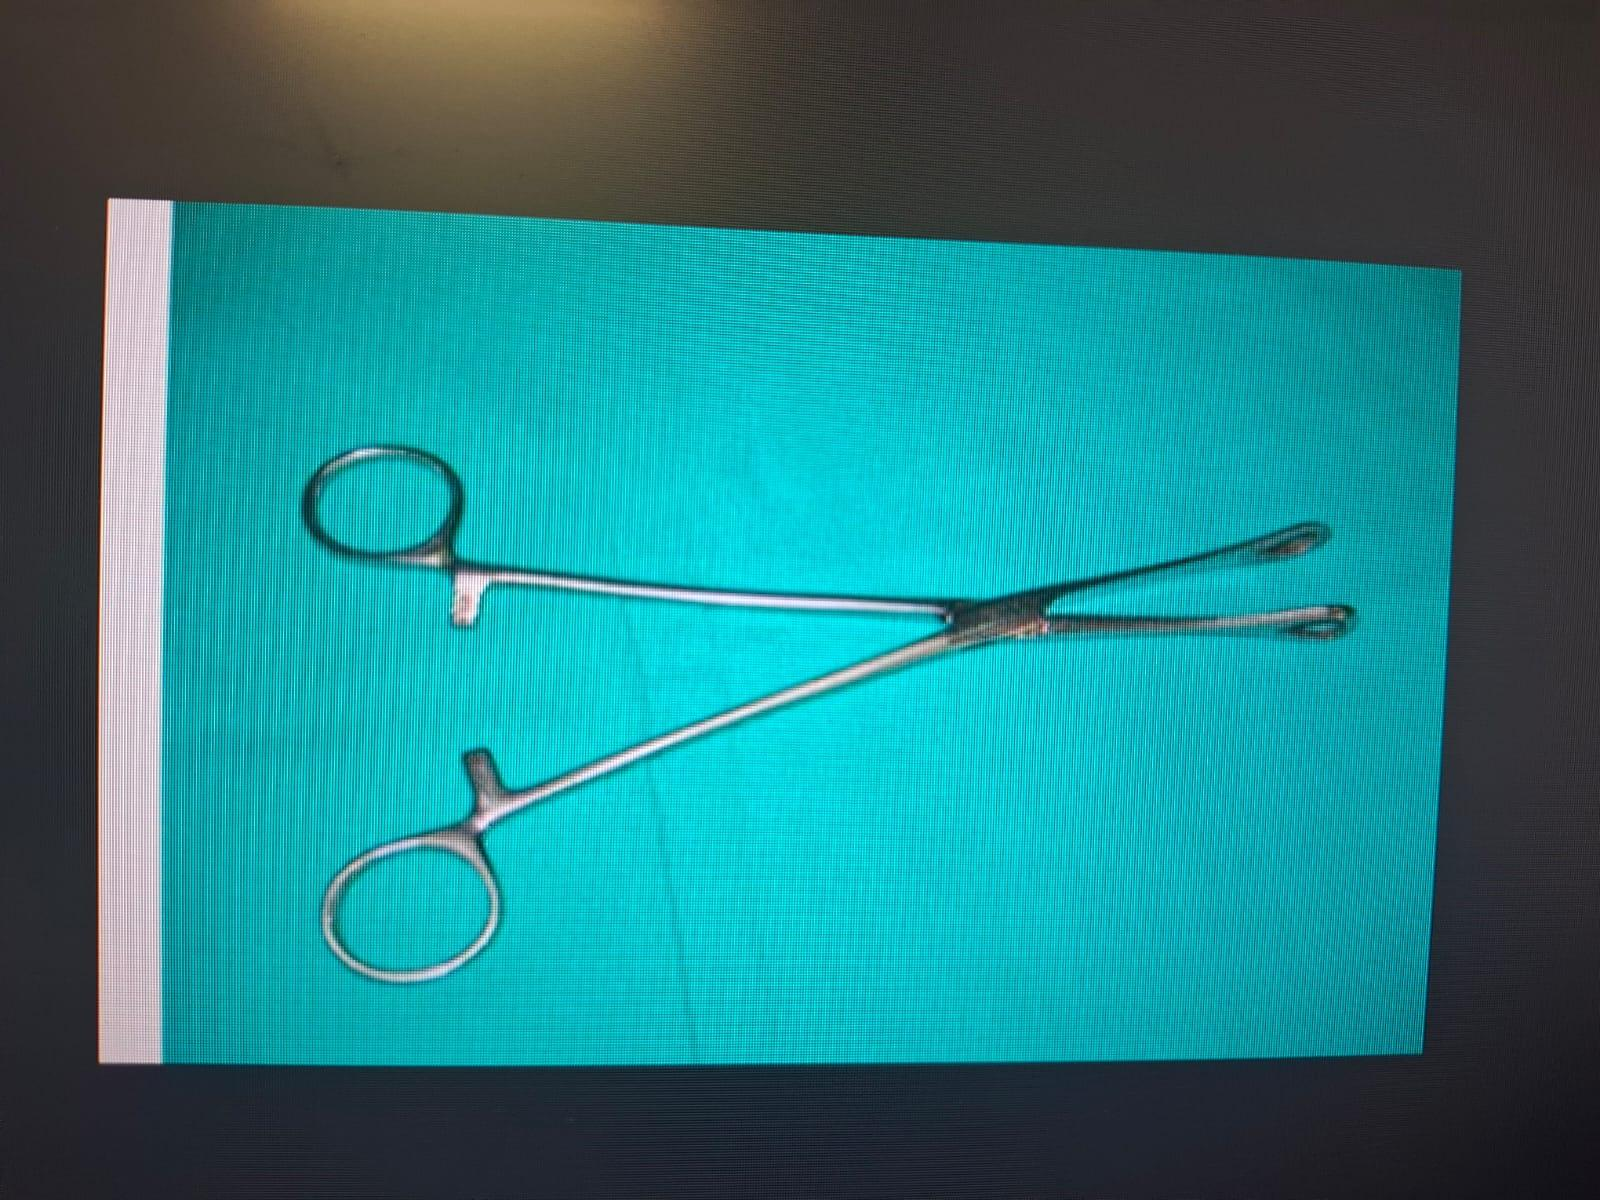Sponge Holding Forceps: (286, 430, 1368, 982)
